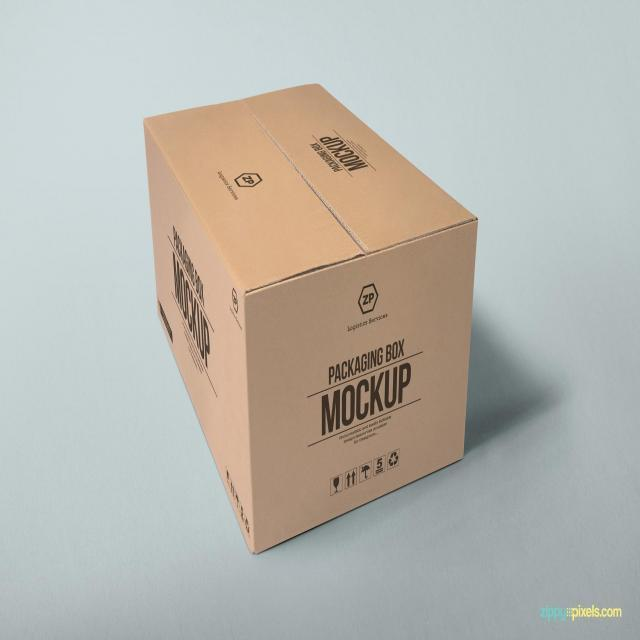box: (67, 124, 640, 570)
opened: (69, 203, 640, 570)
